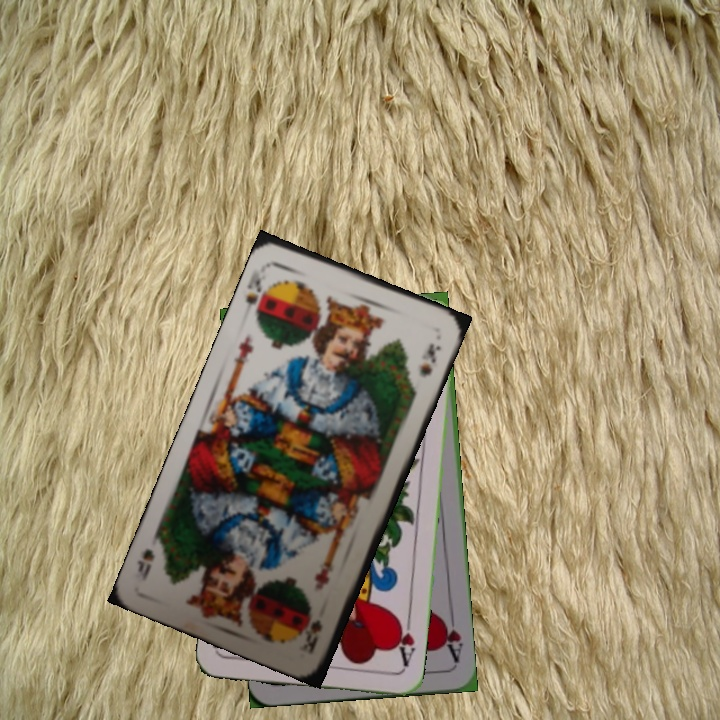HA: (437, 607, 465, 666), (391, 613, 418, 672)
SK: (241, 259, 276, 320), (298, 615, 326, 656)
